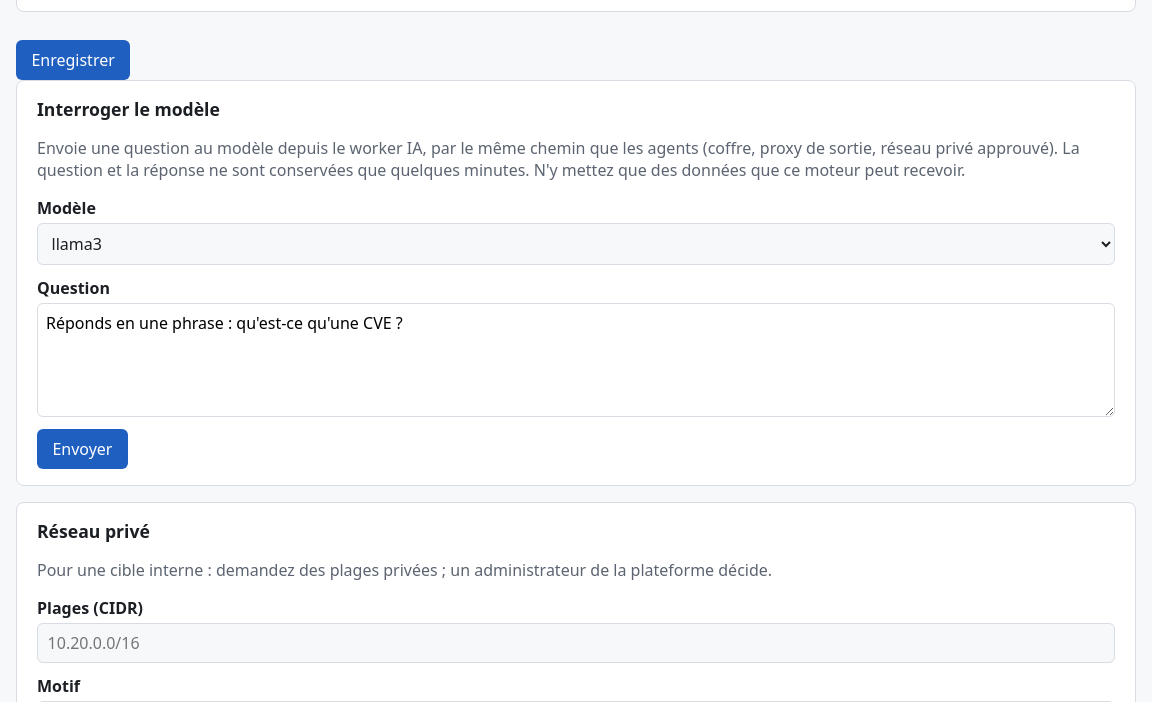
Test case: self-hosted AI engine › asks the model a question and shows the answer as text
(page scrolled)
Expected: the heading "Interroger le modèle" is shown, [37,97,220,121]
Expected: the field labelled "Plages (CIDR)" is shown, [37,623,1115,663]
Replace the text in the text box labelled "Question" with "Une CVE ?" at {"x": 576, "y": 360}, box [37,303,1115,417]
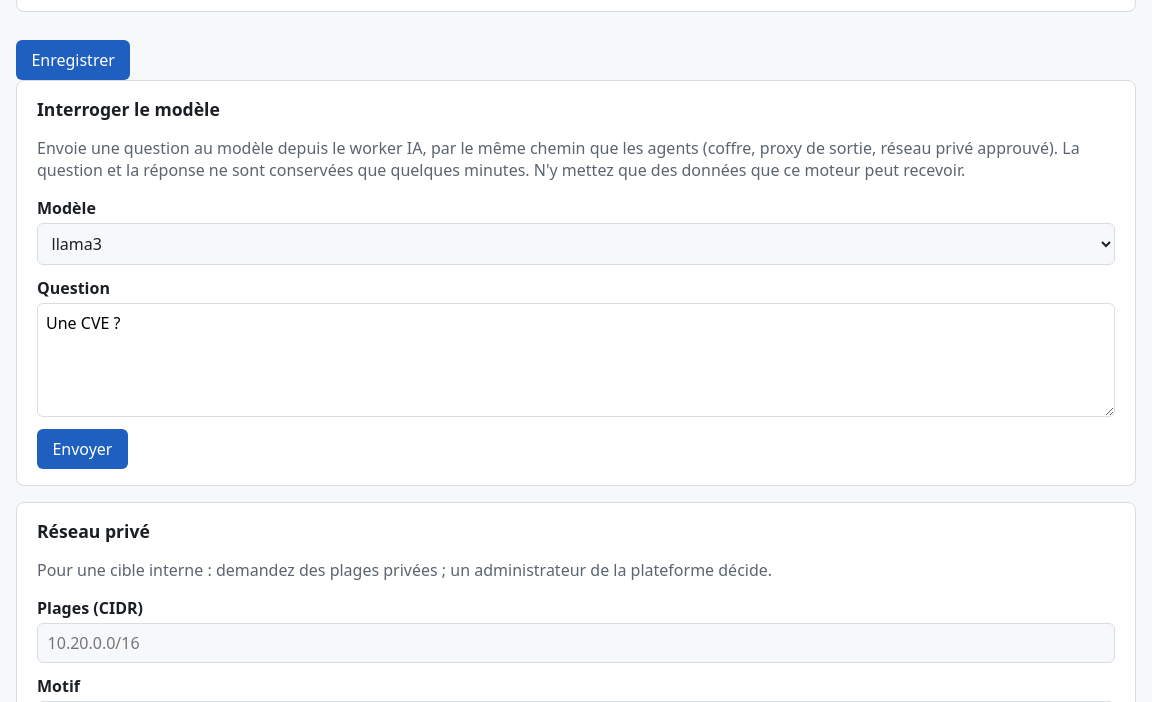
Click the button "Envoyer" at {"x": 82, "y": 449}, box [37,429,128,469]
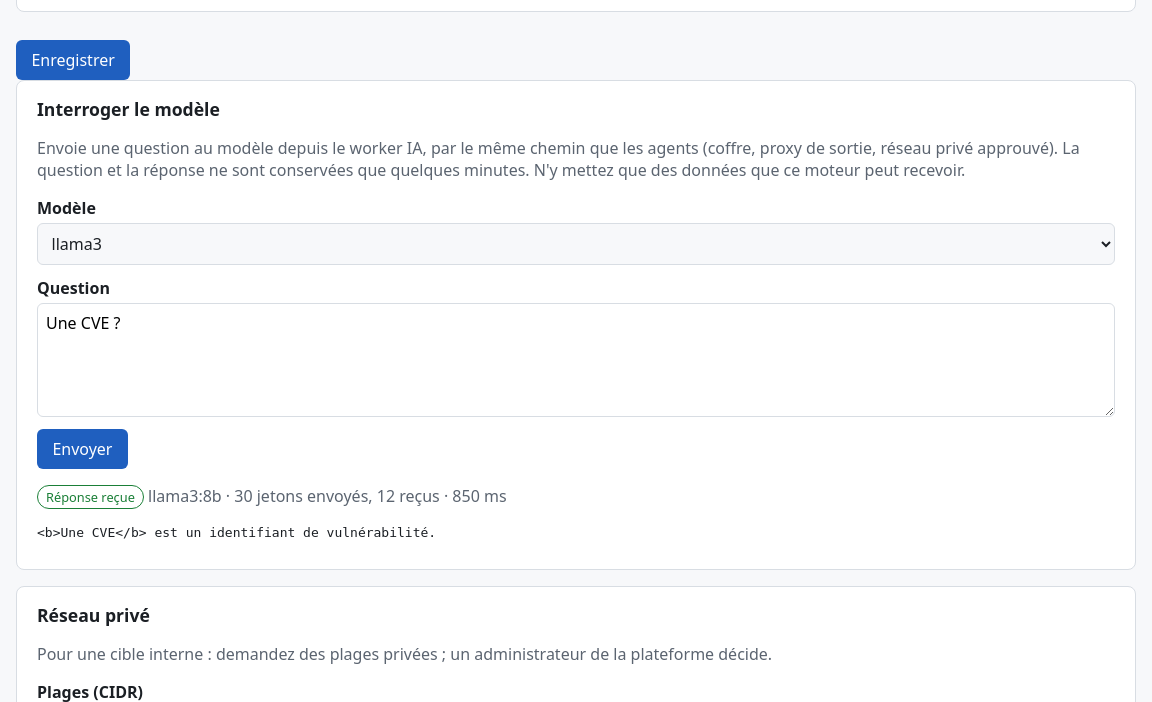
Expected: the text "llama3:8b · 30 jetons envoyés, 12 reçus · 850 ms" is shown, [148,485,507,507]
